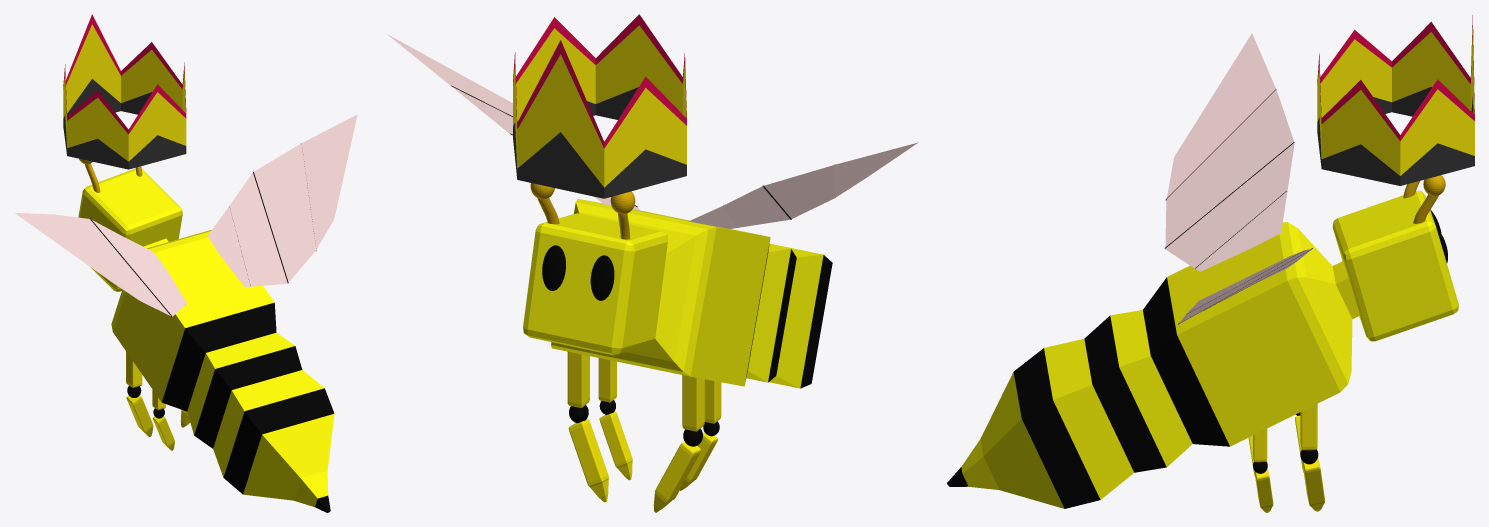
The model's file is AbelhaQueen.fbx.
3 renders of one model, left to right at view 1: azimuth 30°, elevation 25°; view 2: azimuth 150°, elevation 25°; view 3: azimuth 270°, elevation 25°, orthographic. The views are drawn at different scales.
Parts seen in each view (by area): view 1: QueenBee.006, QueenBee.011, QueenBee.022, QueenBee.010, QueenBee.007, QueenBee.017, QueenBee.005, QueenBee.015; view 2: QueenBee.006, QueenBee.022, QueenBee.007, QueenBee.010, QueenBee.011, QueenBee.014, QueenBee.017, QueenBee.015, QueenBee.002, QueenBee.012, QueenBee.009, QueenBee.008 (+3 smaller); view 3: QueenBee.006, QueenBee.022, QueenBee.010, QueenBee.007, QueenBee.011, QueenBee.014, QueenBee.012.
Boxes of the visible parts, x1,y1,x2,y2 form: QueenBee.006: (111, 230, 334, 512); QueenBee.011: (207, 114, 357, 286); QueenBee.022: (63, 14, 186, 169); QueenBee.010: (15, 213, 187, 316); QueenBee.007: (78, 168, 182, 291); QueenBee.017: (126, 395, 153, 436); QueenBee.005: (152, 416, 174, 450); QueenBee.015: (126, 351, 142, 387); QueenBee.006: (551, 199, 832, 388); QueenBee.022: (513, 14, 686, 198); QueenBee.007: (523, 213, 667, 355); QueenBee.010: (688, 142, 918, 228); QueenBee.011: (387, 34, 640, 210); QueenBee.014: (568, 419, 608, 502); QueenBee.017: (653, 442, 700, 512); QueenBee.015: (682, 375, 704, 431); QueenBee.002: (599, 411, 632, 480); QueenBee.012: (567, 351, 589, 407); QueenBee.009: (542, 245, 565, 290); QueenBee.008: (590, 255, 614, 300); QueenBee.006: (947, 222, 1359, 508); QueenBee.022: (1317, 15, 1474, 185); QueenBee.010: (1164, 33, 1294, 271); QueenBee.007: (1332, 190, 1458, 341); QueenBee.011: (1178, 248, 1312, 324); QueenBee.014: (1302, 458, 1325, 511); QueenBee.012: (1300, 404, 1317, 450).
Bounding box in the file's own units: 99.73 × 100 × 99.86.
